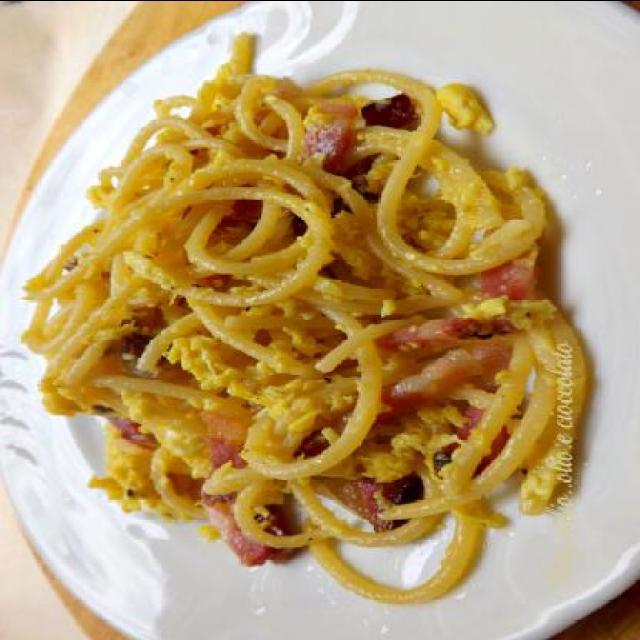Pasta with carbonara sauce: (8, 47, 582, 561)
